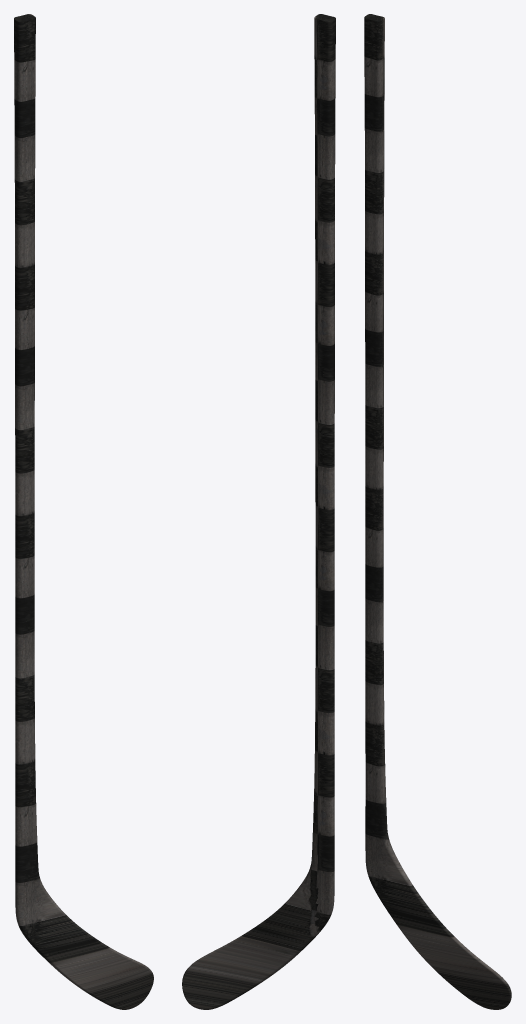
The model's file is P82-SBO.glb.
3 views of the same model, side by side, from view 1: azimuth 30°, elevation 25°; view 2: azimuth 150°, elevation 25°; view 3: azimuth 330°, elevation 25° (orthographic). The views are drawn at different scales.
Visible parts, largest first — view 1: geometry_0; view 2: geometry_0; view 3: geometry_0.
Part boxes in pixels (x1,y1,x2,y2): geometry_0: (14, 14, 153, 1009); geometry_0: (182, 14, 335, 1009); geometry_0: (364, 14, 511, 1009).
Bounding box in the file's own units: 245 × 1650 × 41.38.
Materials: 1 (1 with a texture image).
